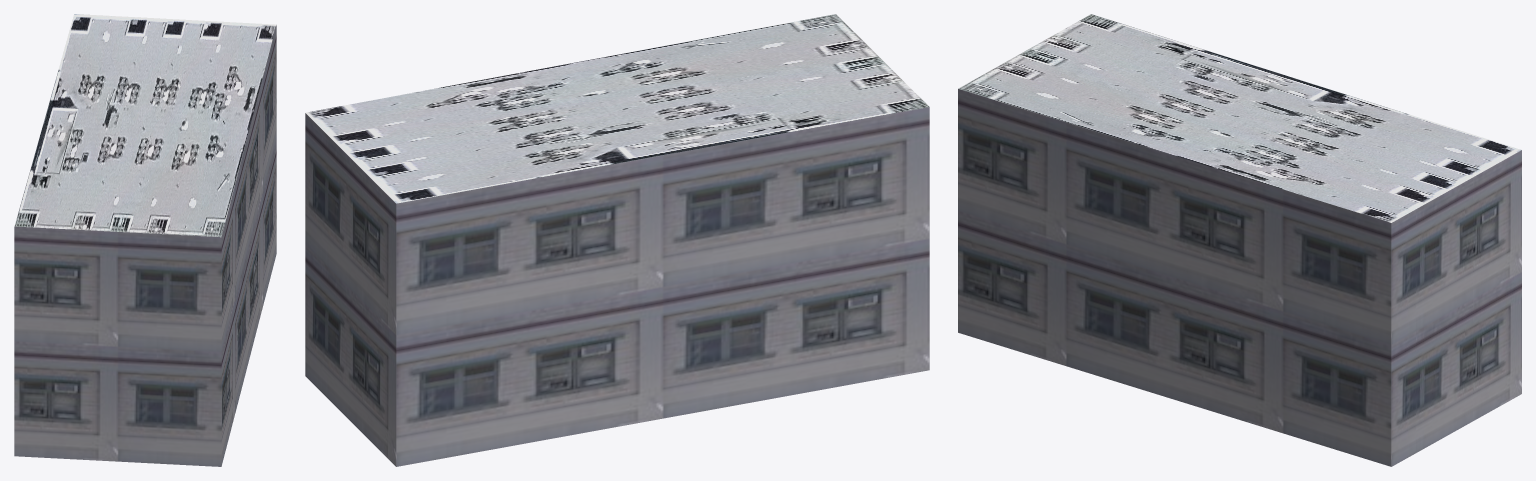
File: ResTex__1894.fbx
3 renders of one model, left to right at view 1: azimuth 30°, elevation 25°; view 2: azimuth 150°, elevation 25°; view 3: azimuth 270°, elevation 25°, orthographic. The views are drawn at different scales.
Visible parts, largest first — view 1: CityEngineMaterial_1_m, CityEngineMaterial_m; view 2: CityEngineMaterial_1_m, CityEngineMaterial_m; view 3: CityEngineMaterial_1_m, CityEngineMaterial_m.
Boxes of the visible parts, <box> form: CityEngineMaterial_1_m: <box>14,25,276,466</box>; CityEngineMaterial_m: <box>14,14,276,237</box>; CityEngineMaterial_1_m: <box>305,107,929,466</box>; CityEngineMaterial_m: <box>305,14,929,203</box>; CityEngineMaterial_1_m: <box>958,89,1521,466</box>; CityEngineMaterial_m: <box>958,14,1521,222</box>.
Bounding box in the file's own units: 11.03 × 6 × 12.57.
Materials: 2 (2 with a texture image).
